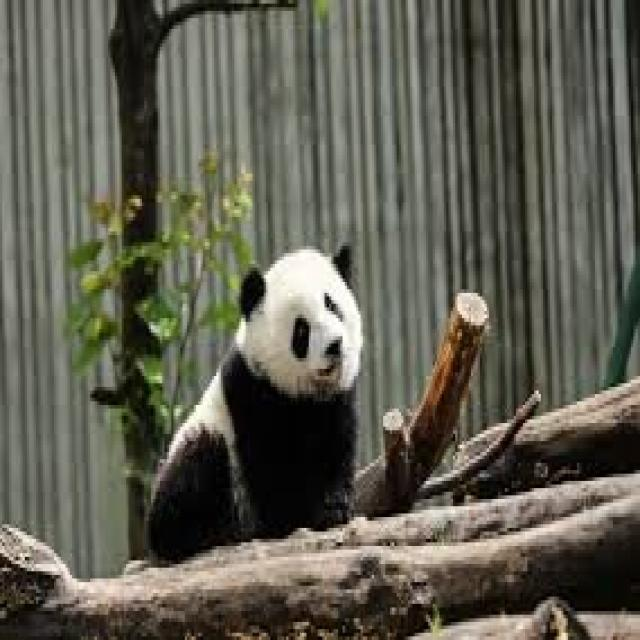Panda: (138, 233, 362, 589)
